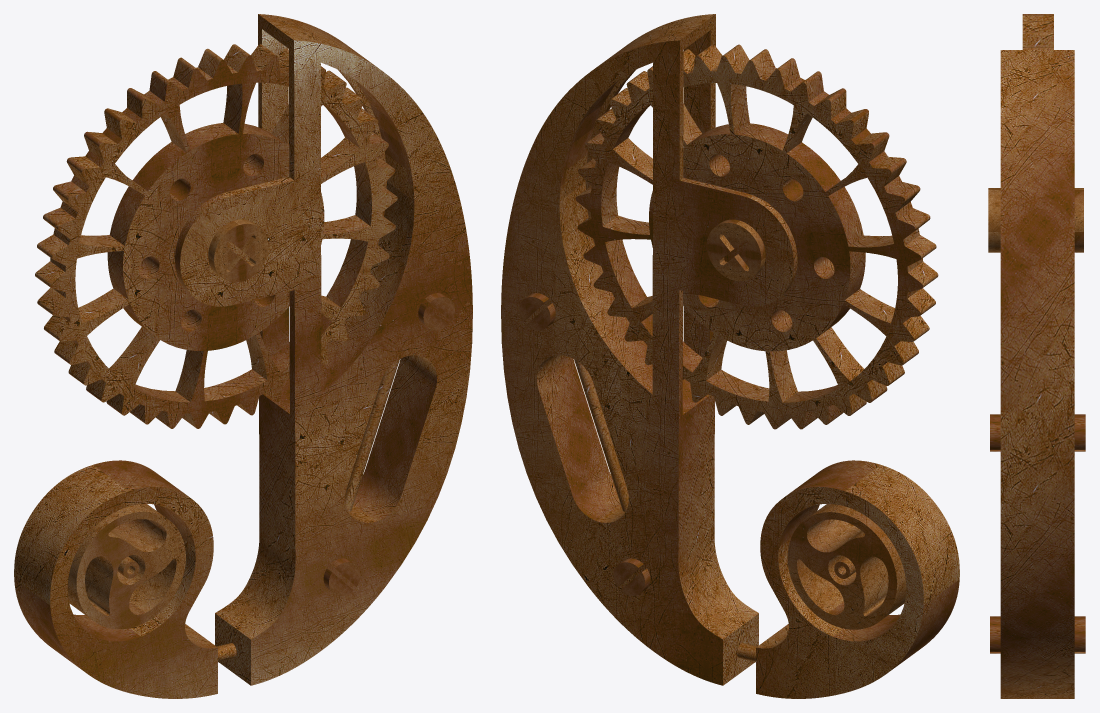
The picture shows the model from 3 angles, left to right: view 1: azimuth 30°, elevation 25°; view 2: azimuth 150°, elevation 25°; view 3: azimuth 270°, elevation 25°; orthographic projection. The views are drawn at different scales.
Parts seen in each view (by area): view 1: 010, Cogwheel_341, Cogwheel_245, Screw_659, Tube_579, Screw_669, Screw_668; view 2: 010, Cogwheel_341, Cogwheel_245, Screw_659, Tube_579, Screw_669, Screw_668; view 3: 010, Screw_659, Cogwheel_341, Screw_669, Screw_668.
Part boxes in pixels (x1,y1,x2,y2): 010: [14, 14, 472, 698]; Cogwheel_341: [35, 44, 397, 428]; Cogwheel_245: [67, 504, 185, 629]; Screw_659: [208, 219, 268, 282]; Tube_579: [345, 359, 399, 511]; Screw_669: [418, 293, 454, 330]; Screw_668: [323, 558, 360, 595]; 010: [501, 14, 959, 698]; Cogwheel_341: [575, 44, 938, 429]; Cogwheel_245: [787, 504, 906, 629]; Screw_659: [707, 200, 789, 281]; Tube_579: [574, 359, 628, 511]; Screw_669: [519, 293, 555, 330]; Screw_668: [613, 558, 650, 595]; 010: [1000, 50, 1074, 698]; Screw_659: [988, 188, 1083, 252]; Cogwheel_341: [1022, 14, 1053, 49]; Screw_669: [990, 414, 1085, 451]; Screw_668: [990, 616, 1085, 653].
Size of the model in its own units: 67.66 by 97.08 by 13.08.
1 material, 1 textured.
